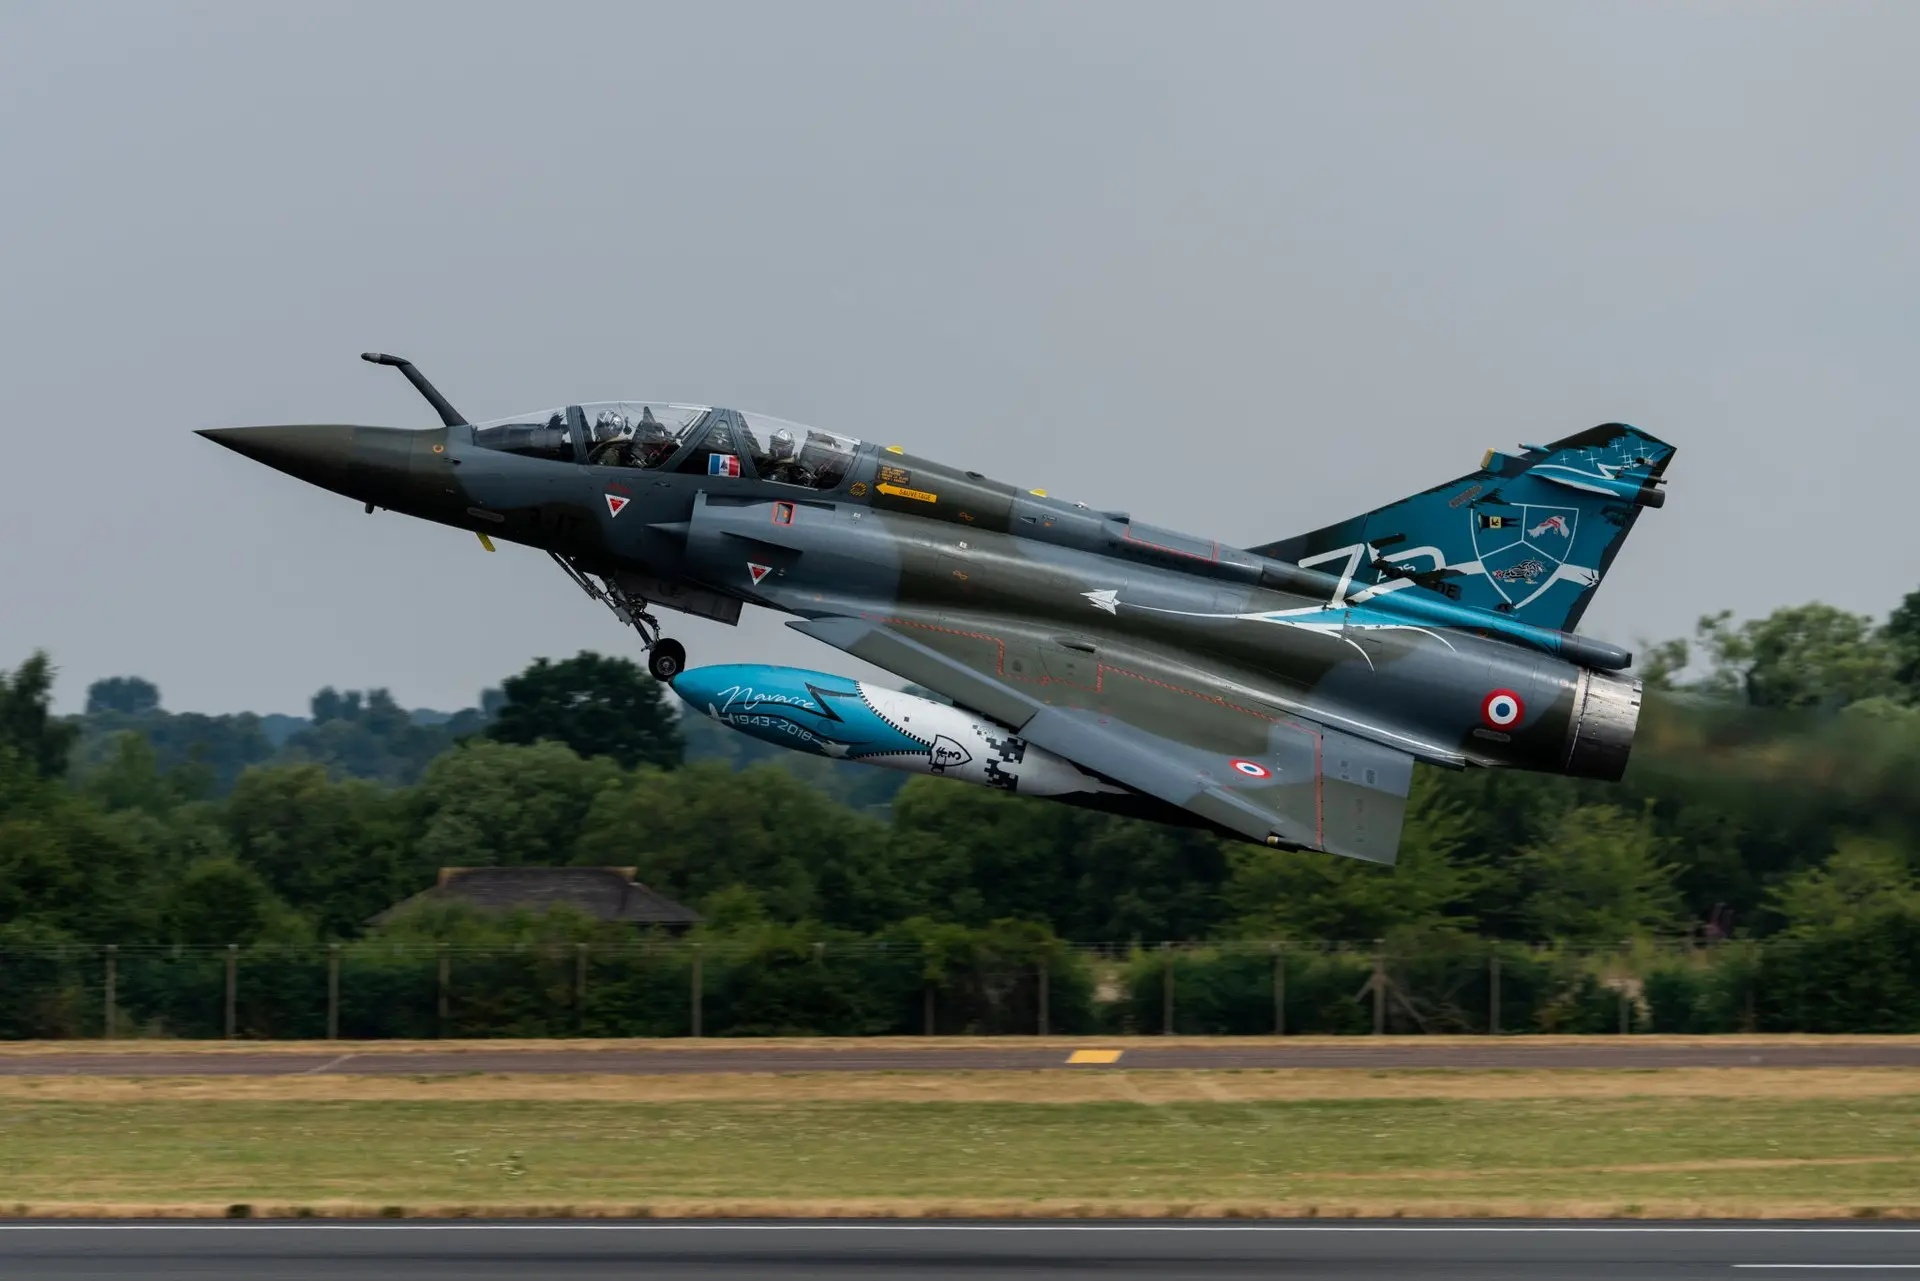Mirage2000: (192, 352, 1677, 864)
